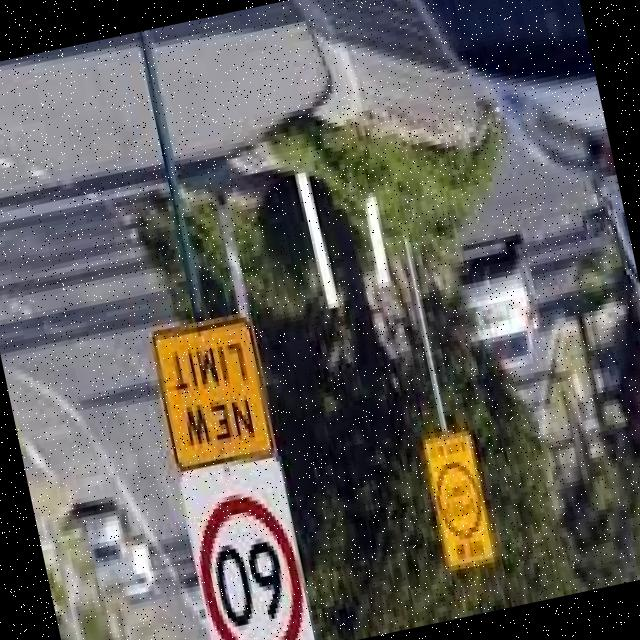speed_limit_60: (182, 485, 316, 640)
